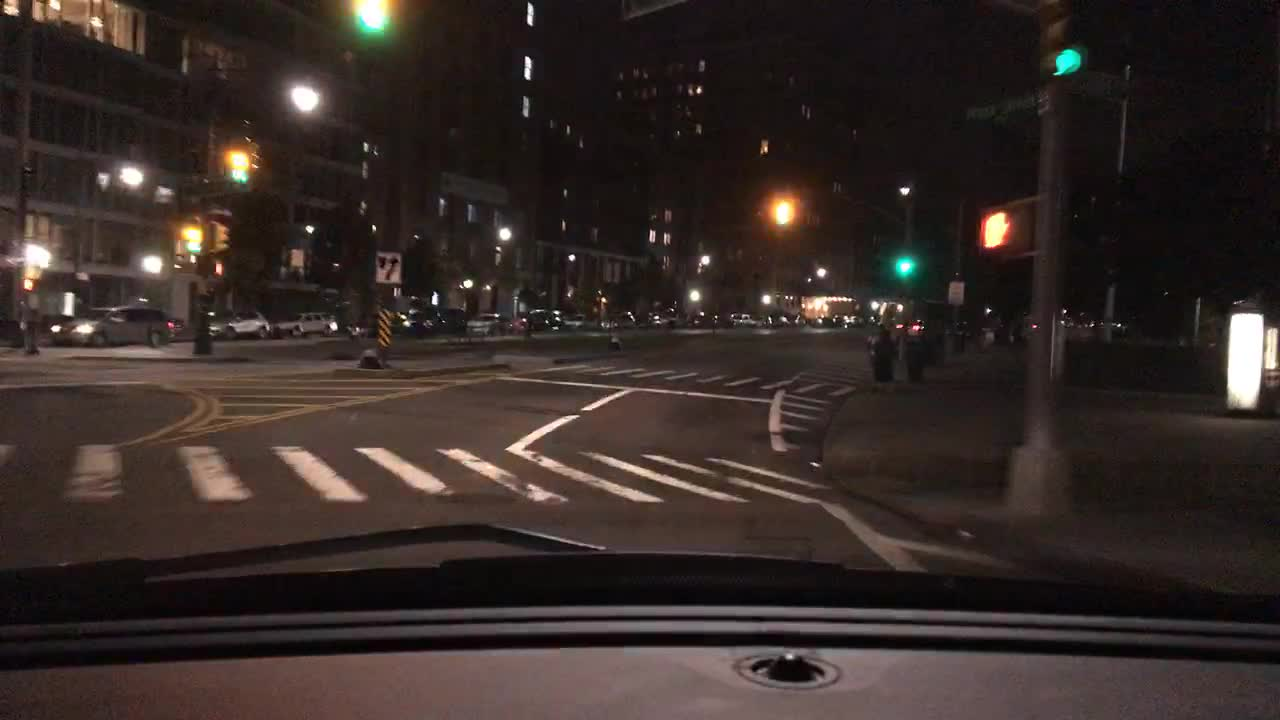car: (50, 304, 185, 347), (207, 309, 271, 342), (404, 304, 463, 336), (344, 309, 403, 336), (276, 312, 340, 336), (460, 312, 509, 337), (509, 309, 546, 333), (599, 311, 641, 330), (650, 310, 687, 329), (689, 311, 722, 329), (565, 312, 595, 330), (728, 311, 760, 327), (546, 310, 568, 330), (769, 313, 789, 327), (810, 315, 831, 328), (790, 312, 806, 327), (845, 314, 863, 327), (832, 313, 843, 327)
person: (868, 322, 896, 385), (867, 330, 896, 388), (14, 296, 43, 353)
traffic light: (1045, 14, 1085, 80), (976, 207, 1021, 255), (355, 0, 393, 35), (181, 215, 201, 253), (230, 148, 249, 186), (771, 199, 795, 223), (212, 223, 227, 253), (20, 276, 33, 292)
traffic sign: (965, 90, 1045, 122), (374, 249, 402, 284), (947, 279, 963, 305)
